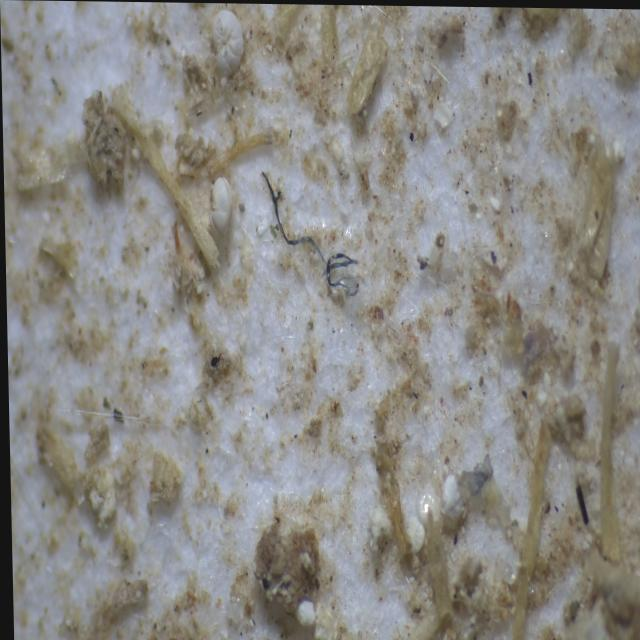microplastic: (234, 170, 378, 304), (449, 448, 501, 499)
